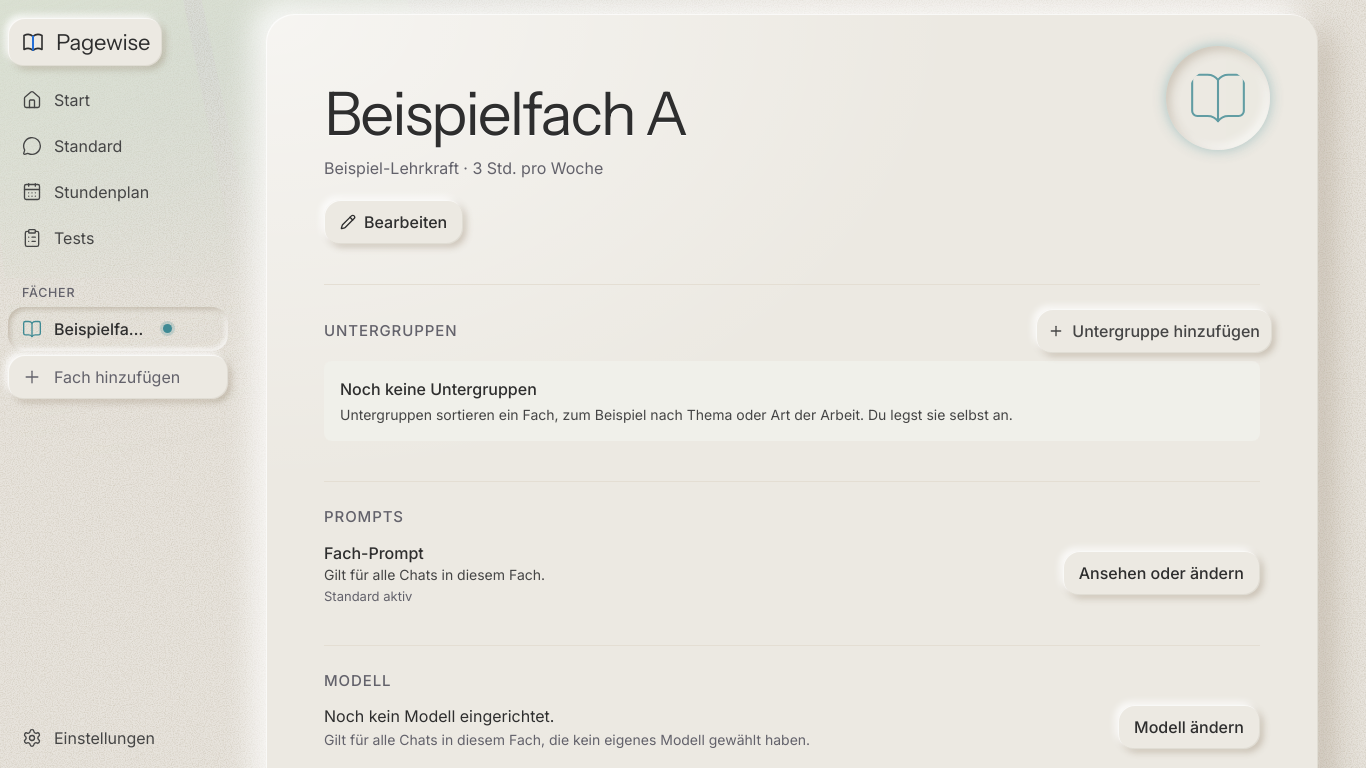
Test case: Fach bearbeiten und löschen › ändert Angaben und leert optionale Felder
This screenshot has width=1366, height=768.
Click the button "Bearbeiten": [394, 222] box left=324, top=200, right=463, bottom=244
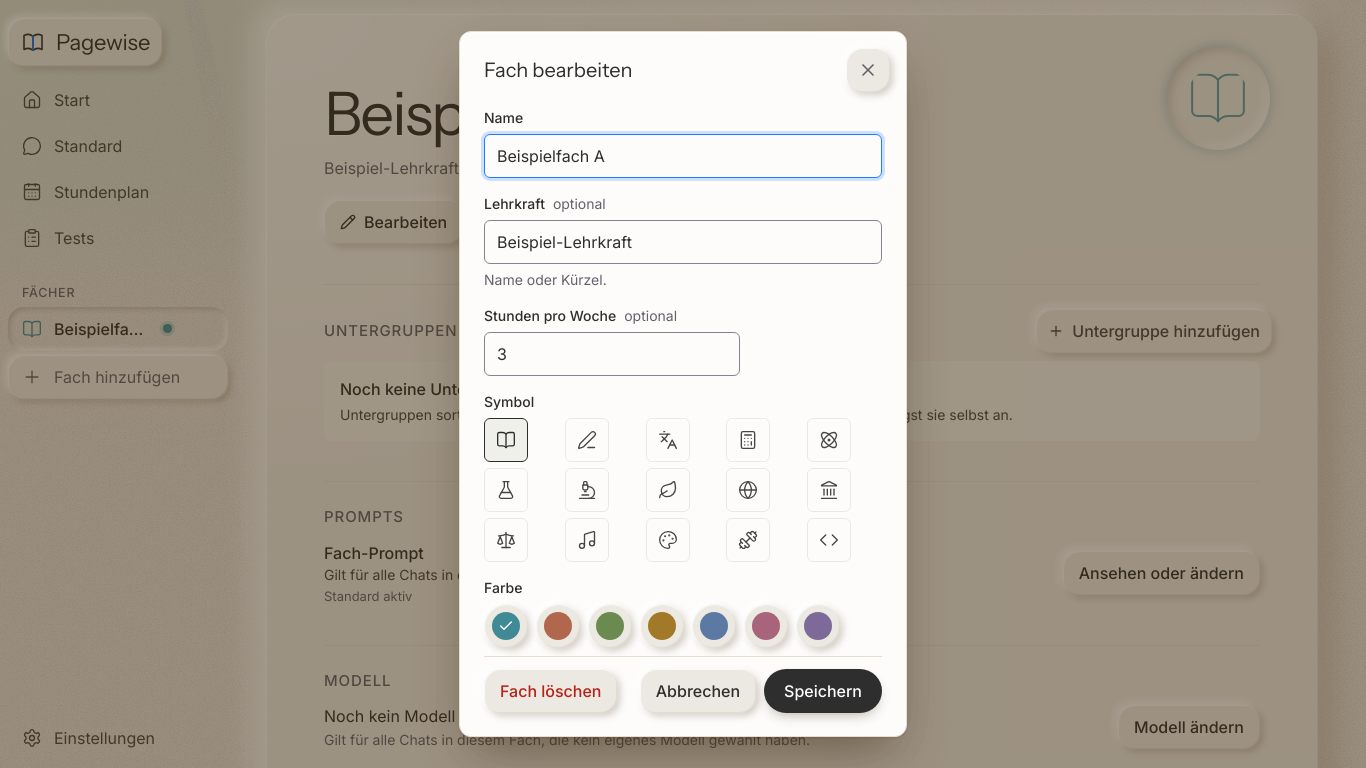
Result: the field labelled "Name" holds "Beispielfach A"
Result: the field labelled "Lehrkraft" holds "Beispiel-Lehrkraft" at left=484, top=220, right=882, bottom=264
Replace the text in the field labelled "Name" with "Beispielfach Neu": [683, 156] box left=484, top=134, right=882, bottom=178
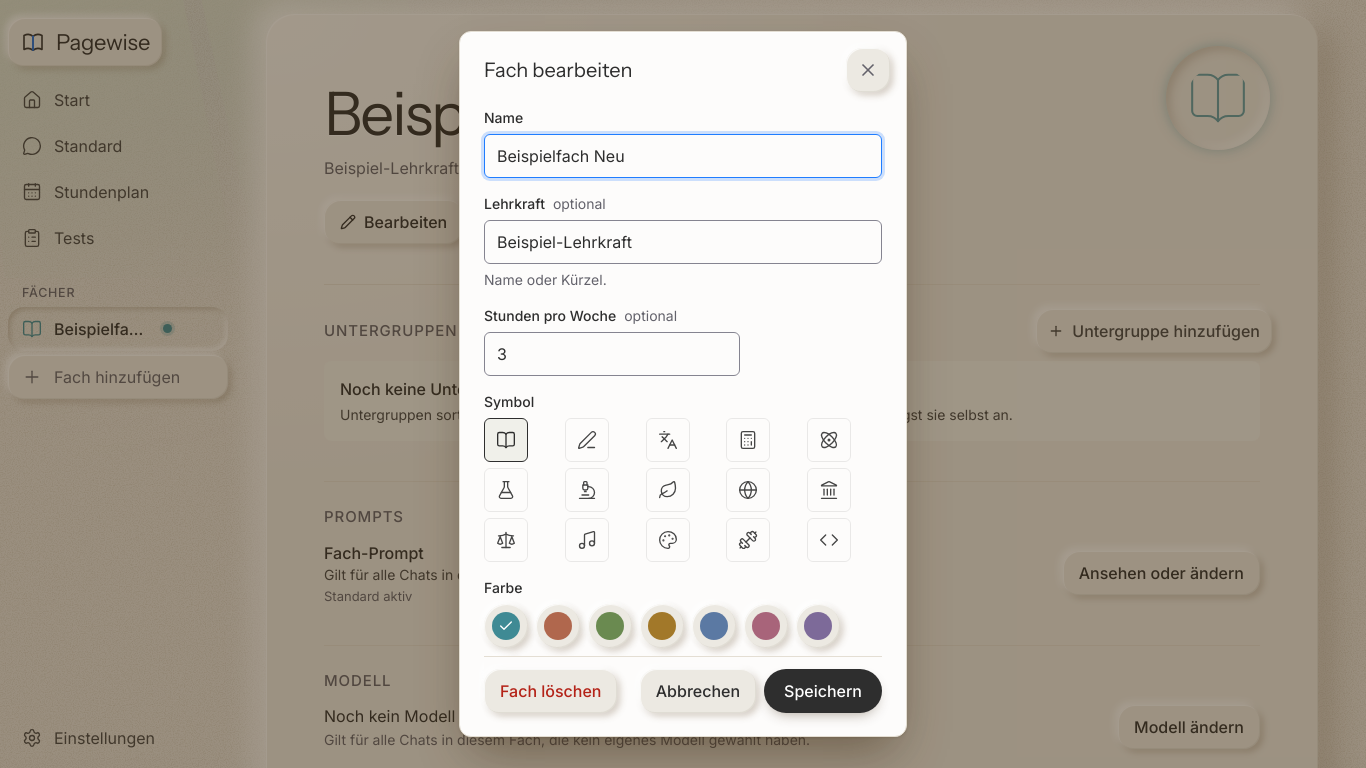
Clear the field labelled "Lehrkraft": [683, 242] box left=484, top=220, right=882, bottom=264
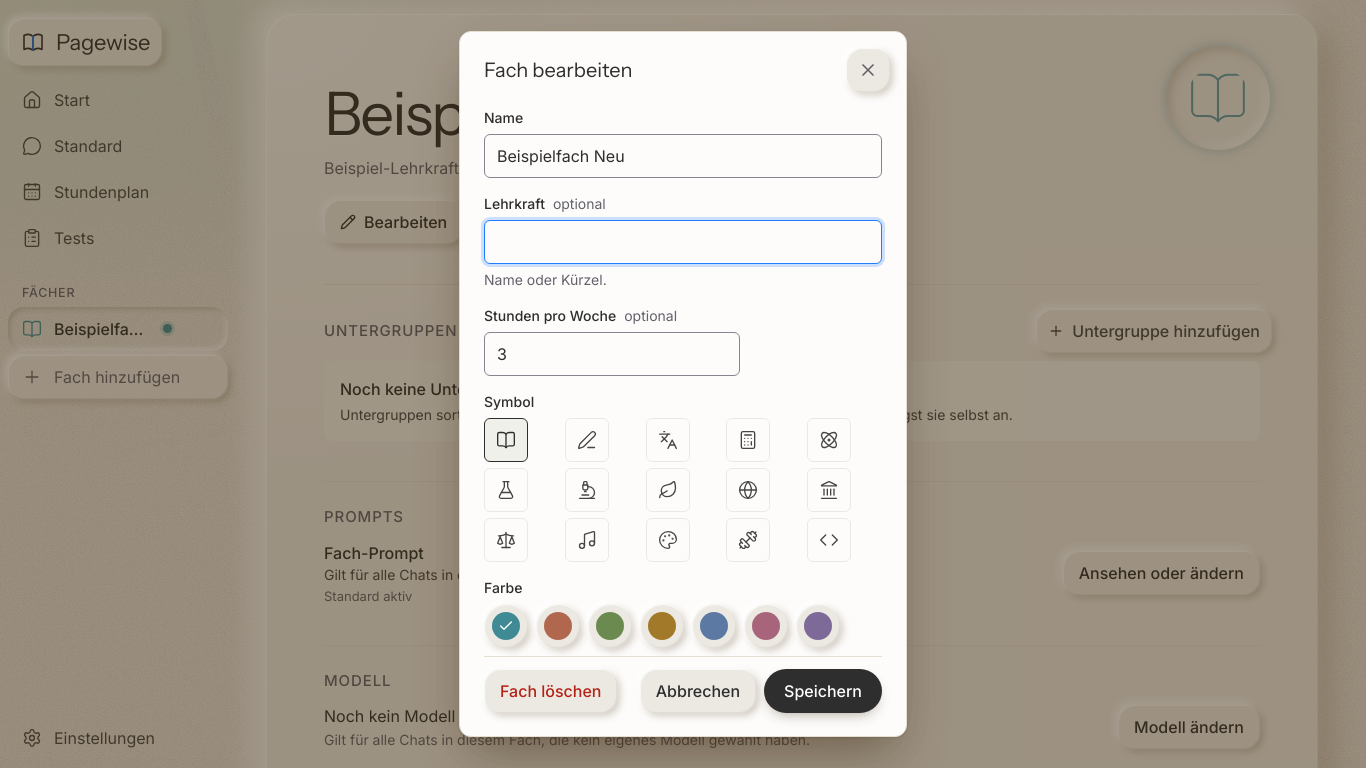
Click the button "Speichern": [823, 690] box left=764, top=668, right=882, bottom=712
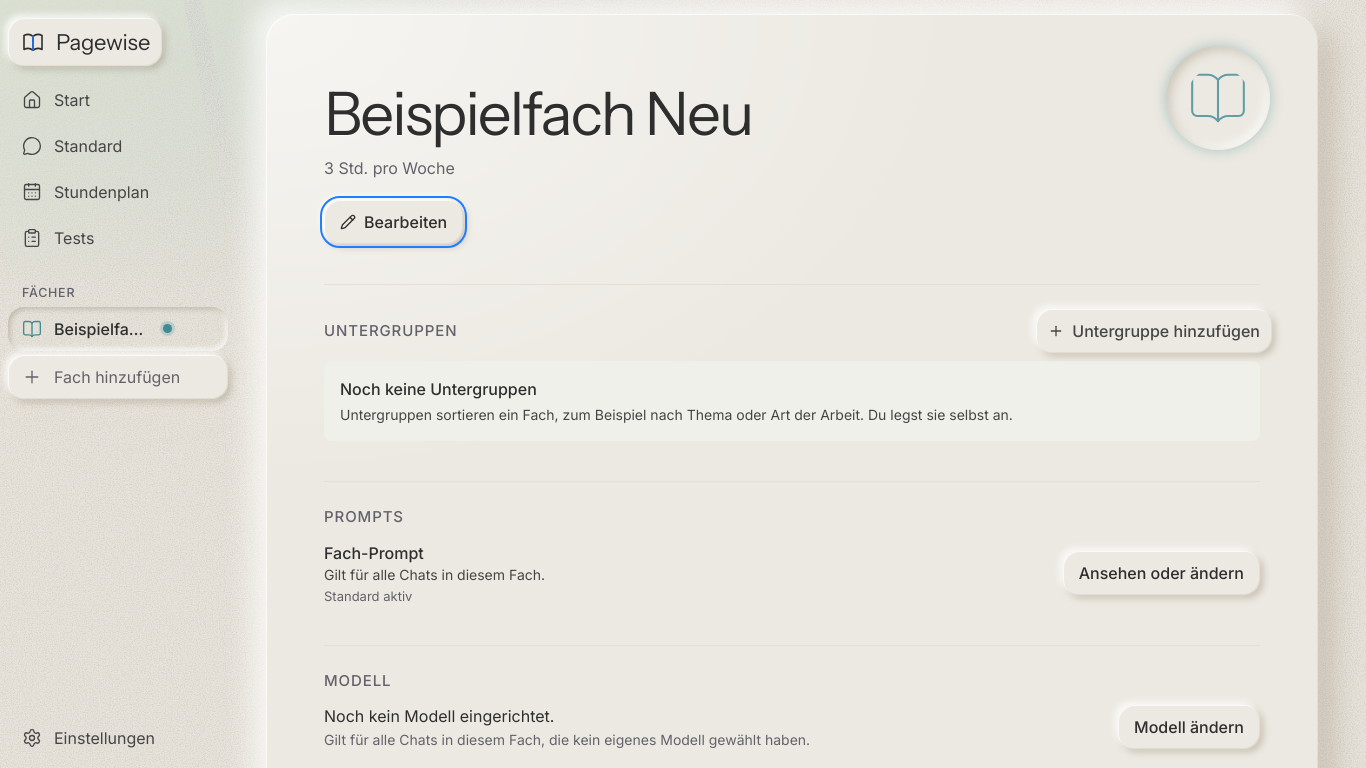
Result: the heading "Beispielfach Neu" is shown at left=324, top=84, right=752, bottom=144
